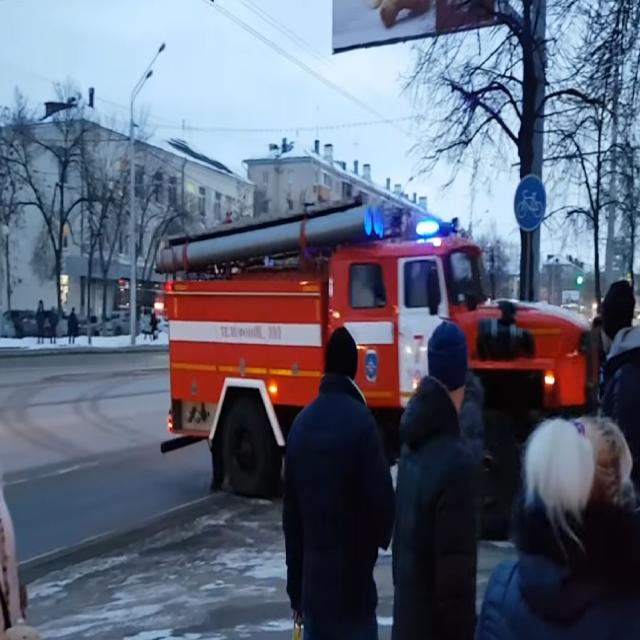fire fighting vehicle: (148, 192, 606, 547)
